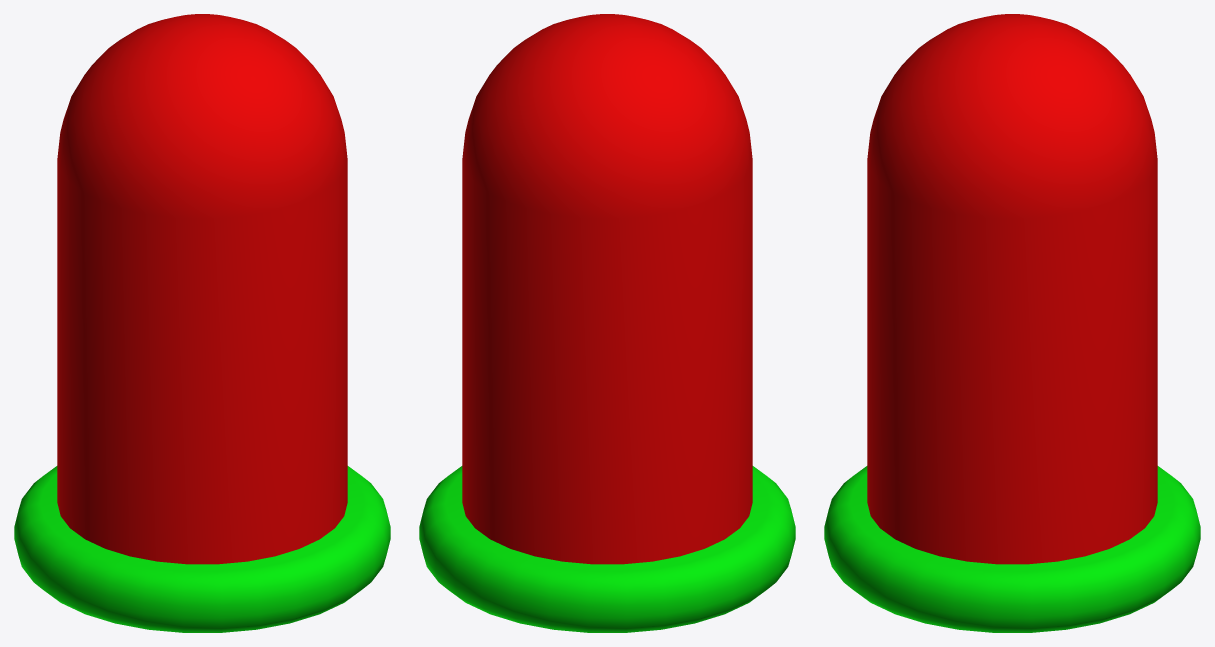
The model's file is Urn tesla.fbx.
3 views of the same model, side by side, from view 1: azimuth 30°, elevation 25°; view 2: azimuth 150°, elevation 25°; view 3: azimuth 270°, elevation 25° (orthographic).
Visible parts, largest first — view 1: Sphere; view 2: Sphere; view 3: Sphere.
Boxes of the visible parts, <box> form: Sphere: <box>14,14,390,632</box>; Sphere: <box>419,14,795,632</box>; Sphere: <box>824,14,1200,632</box>.
Bounding box in the file's own units: 0.2072 × 0.3269 × 0.2083.
